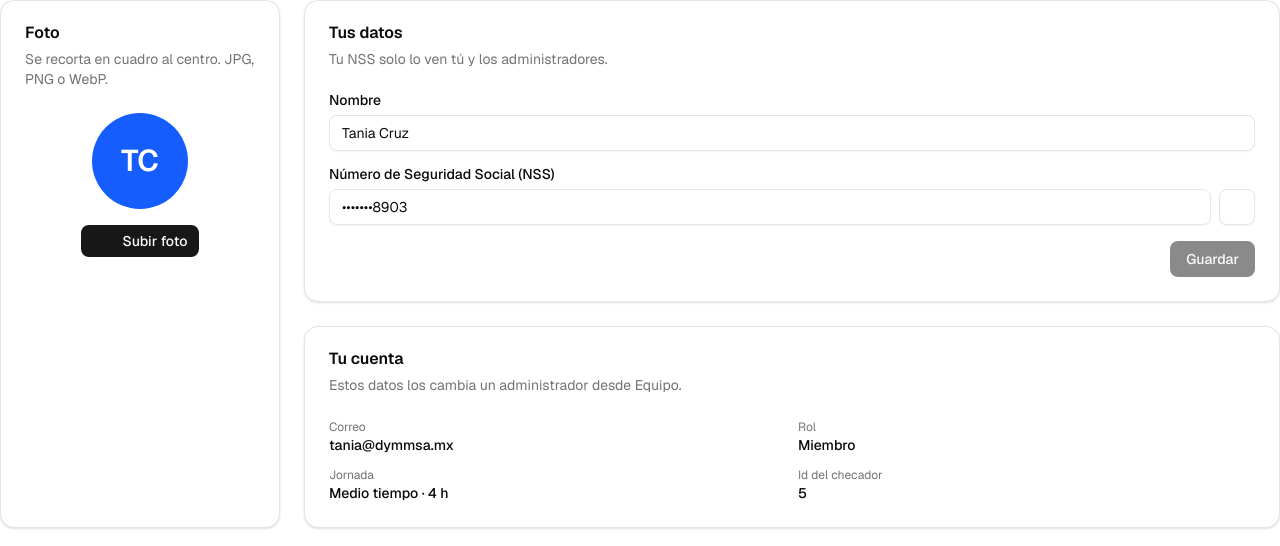
Test: ProfileView › el NSS se ve oculto y se revela con el ojo
Expected: the field labelled "Número de Seguridad Social (NSS)" holds "•••••••8903", left=329, top=189, right=1211, bottom=225
Click the button named "Mostrar NSS". click: click(1237, 207)
box: left=1219, top=189, right=1255, bottom=225
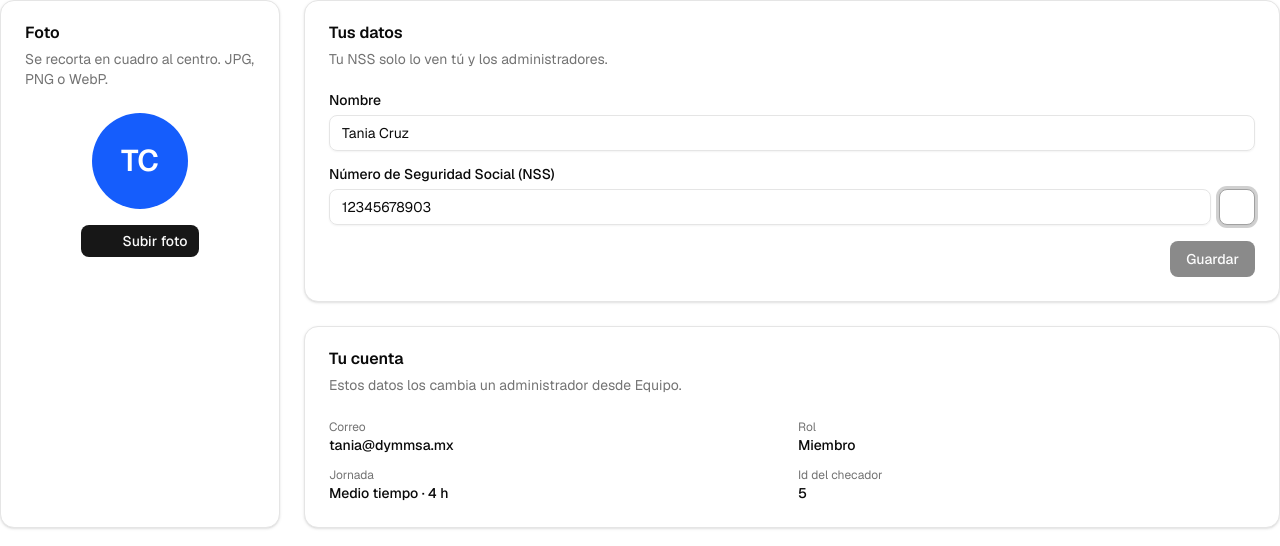
Now the field labelled "Número de Seguridad Social (NSS)" holds "12345678903", box left=329, top=189, right=1211, bottom=225
